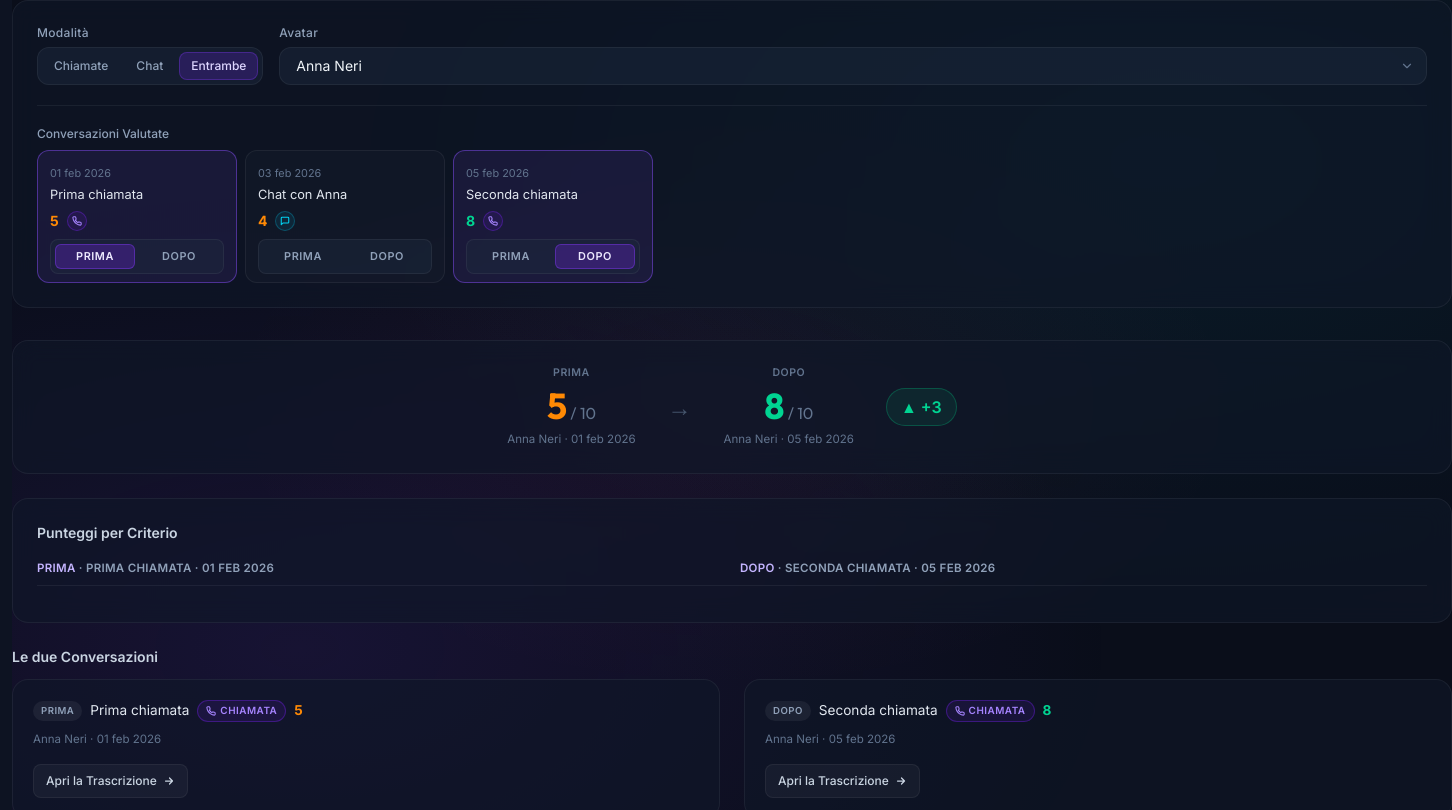
ComparisonConversations › offre come scenari solo quelli raggiungibili dal canale scelto
Step 1. Click the radio button labelled "Chiamate" → {"x": 81, "y": 66}, box [42,52,120,80]
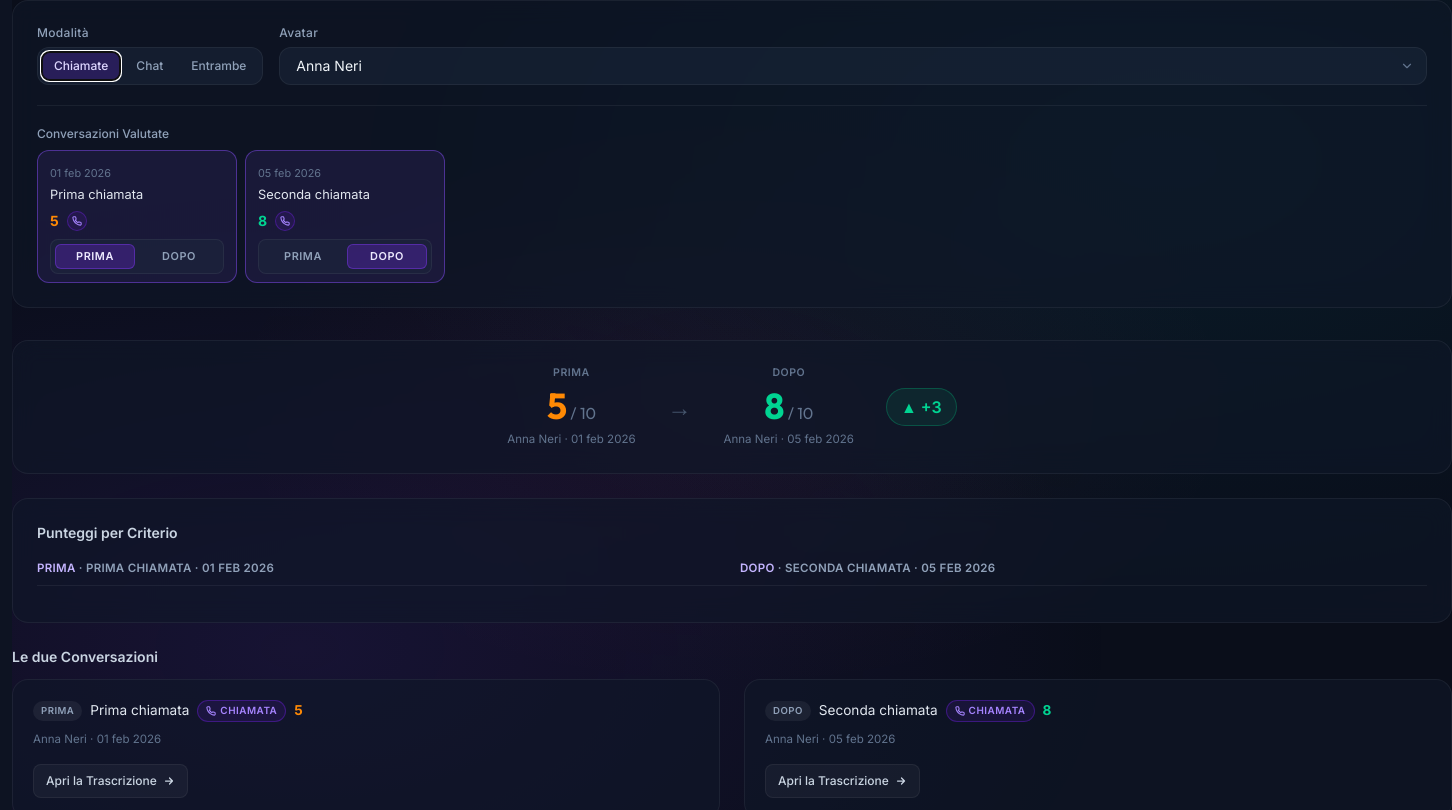
Step 2. Click the dropdown named "Avatar" → {"x": 329, "y": 66}, box [279,47,1427,85]
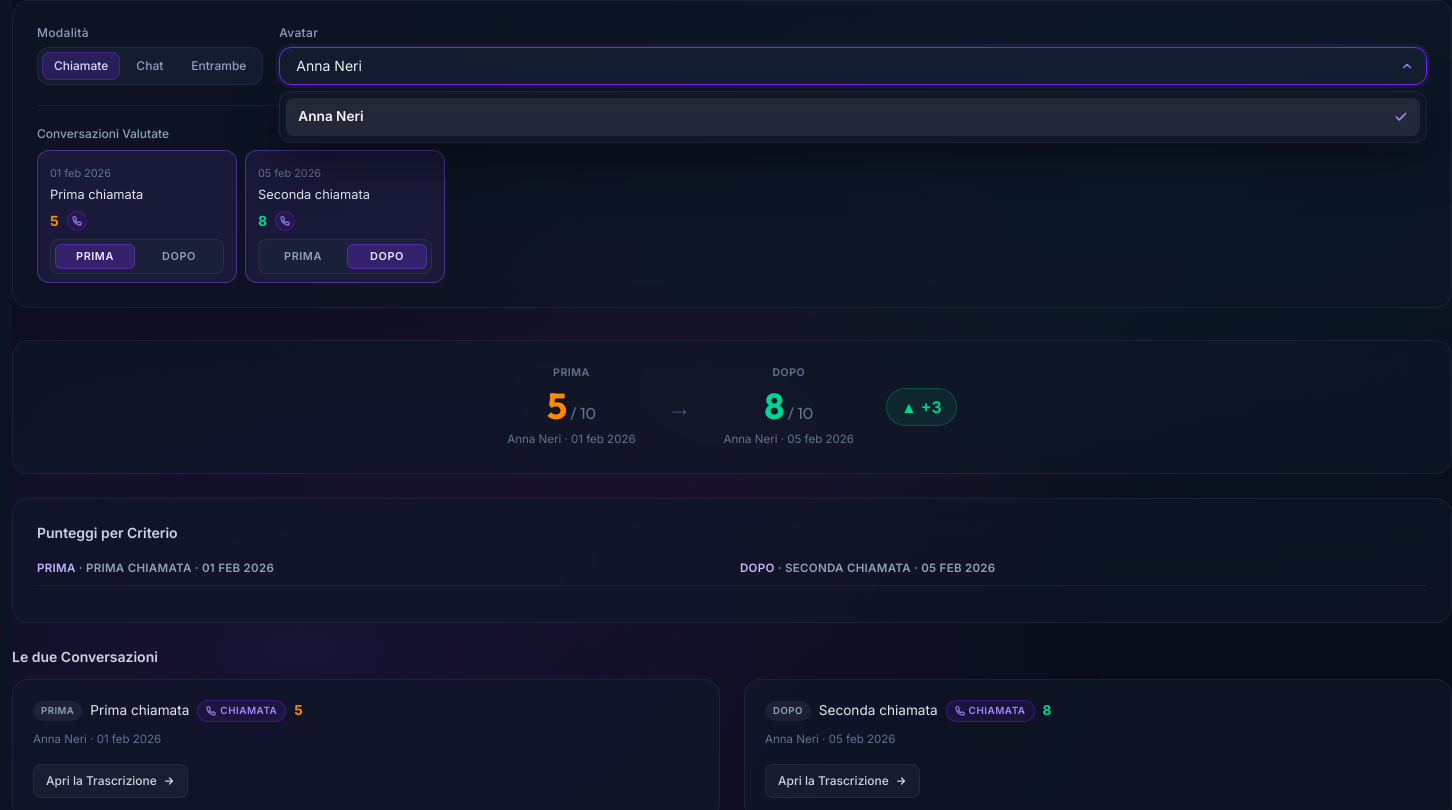
Now the options read "Anna Neri", in this order, box [286,98,1420,136]
